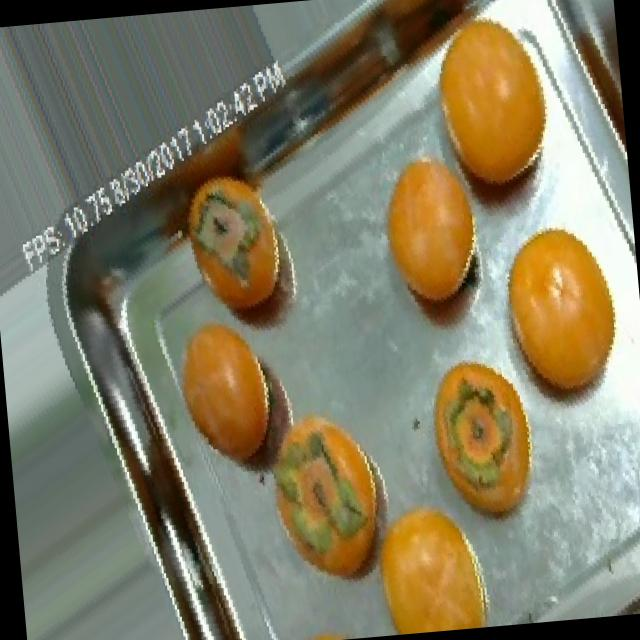Fruit: (476, 193, 640, 429), (150, 288, 316, 498), (404, 0, 568, 211), (408, 330, 558, 550), (358, 126, 503, 334), (168, 156, 311, 347), (354, 482, 506, 638)
